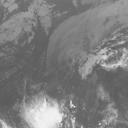cyclone: (25, 96, 65, 127)
